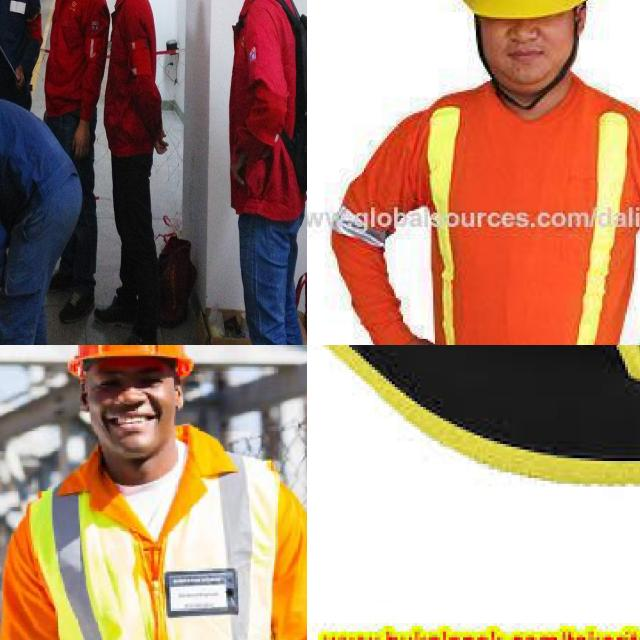No_Ear-Protection: (80, 380, 90, 413), (175, 381, 184, 408)
No_Glasses: (91, 369, 169, 391)
Sandals: (307, 345, 640, 603)
face_nomask: (467, 12, 570, 90), (90, 389, 176, 456)
head_helmet: (68, 345, 193, 378)
person: (382, 0, 640, 345)
vest: (410, 106, 640, 345)
